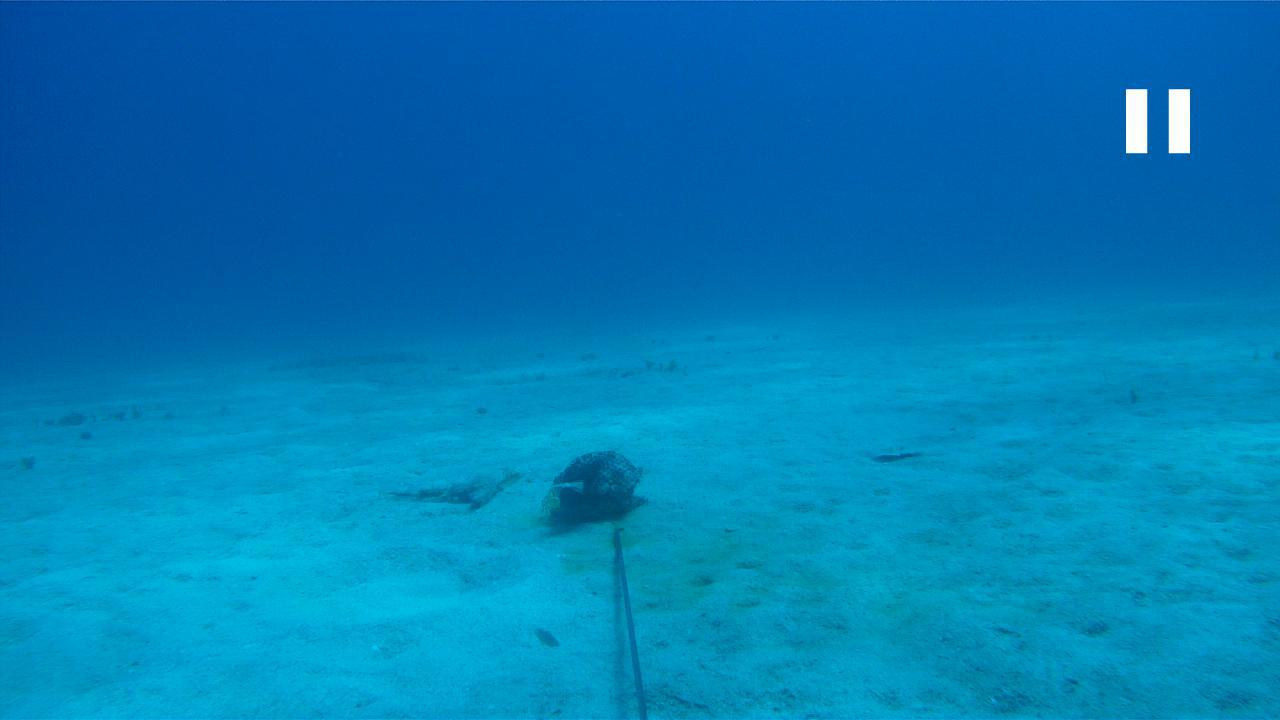bothus: (865, 438, 927, 462)
